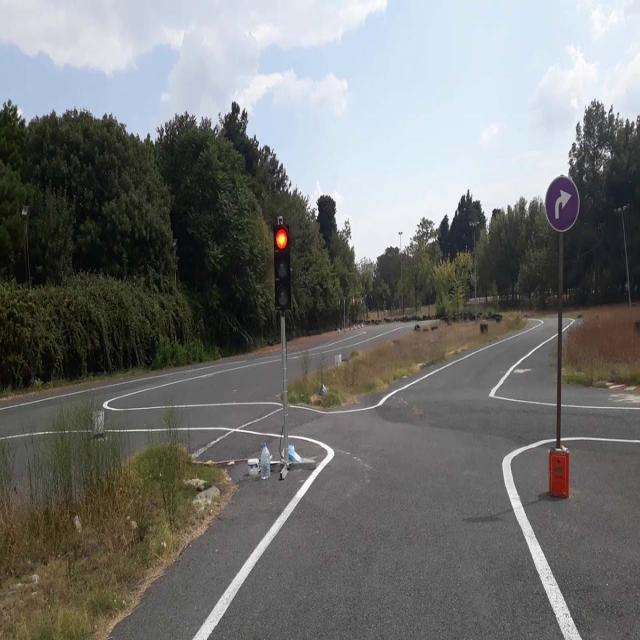kirmizi: (273, 226, 291, 308)
sag: (545, 176, 579, 229)
